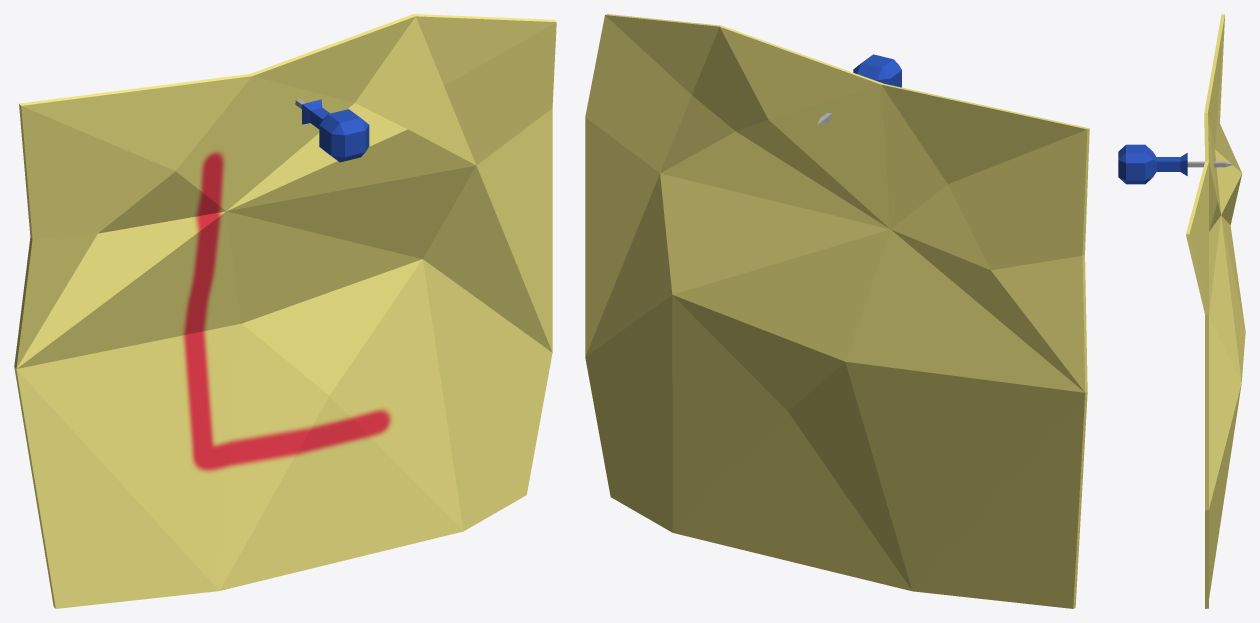
Rendered from Paper Letter L.fbx.
3 renders of one model, left to right at view 1: azimuth 30°, elevation 25°; view 2: azimuth 150°, elevation 25°; view 3: azimuth 270°, elevation 25°, orthographic. The views are drawn at different scales.
Visible parts, largest first — view 1: Papier, Punaise; view 2: Papier, Punaise; view 3: Papier, Punaise.
Part boxes in pixels (x1,y1,x2,y2): Papier: (14, 14, 556, 608); Punaise: (295, 99, 369, 162); Papier: (585, 14, 1089, 608); Punaise: (817, 54, 901, 124); Papier: (1186, 14, 1245, 608); Punaise: (1118, 144, 1233, 184).
Bounding box in the file's own units: 208 × 200 × 54.89.
